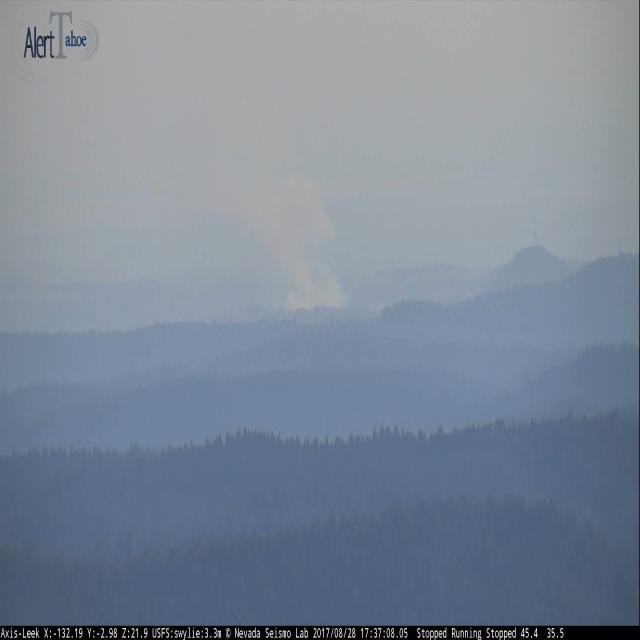smoke: (260, 176, 347, 309)
